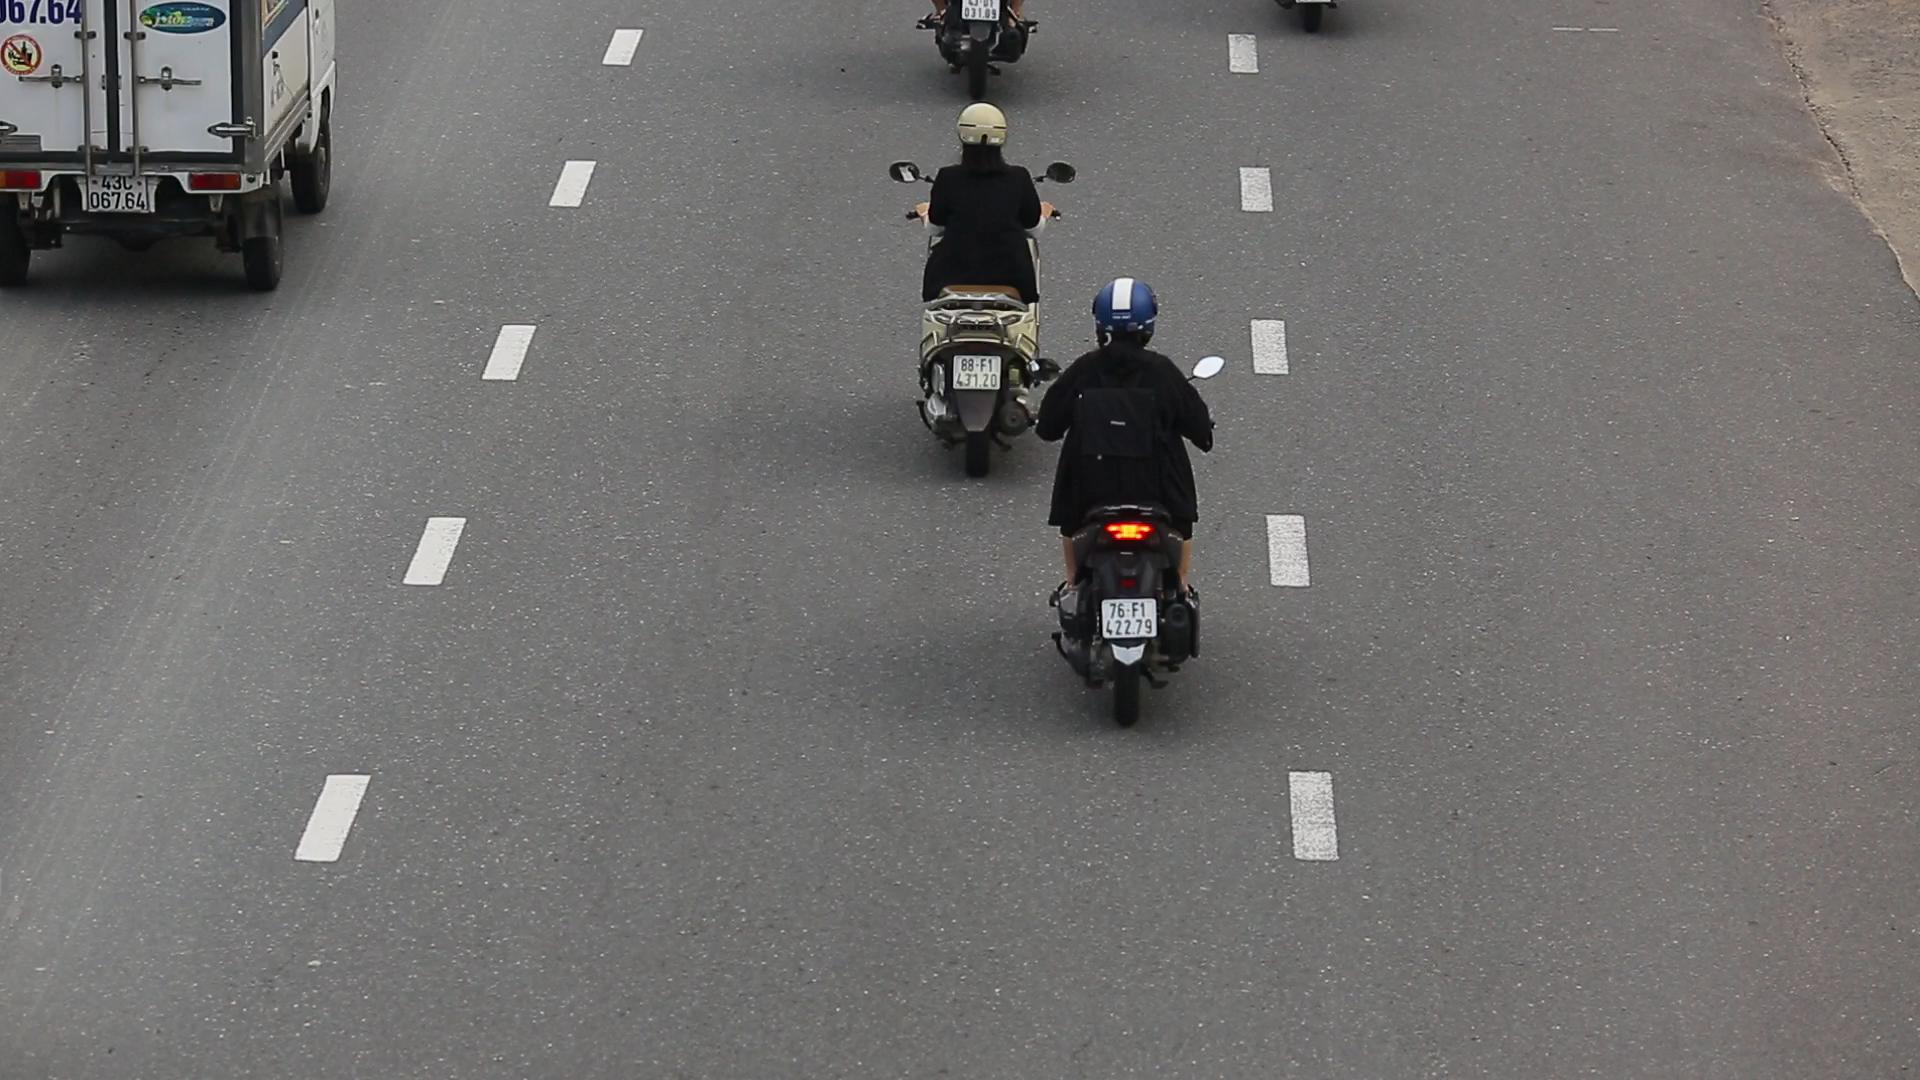motobike: (1030, 272, 1226, 731), (895, 102, 1087, 485)
